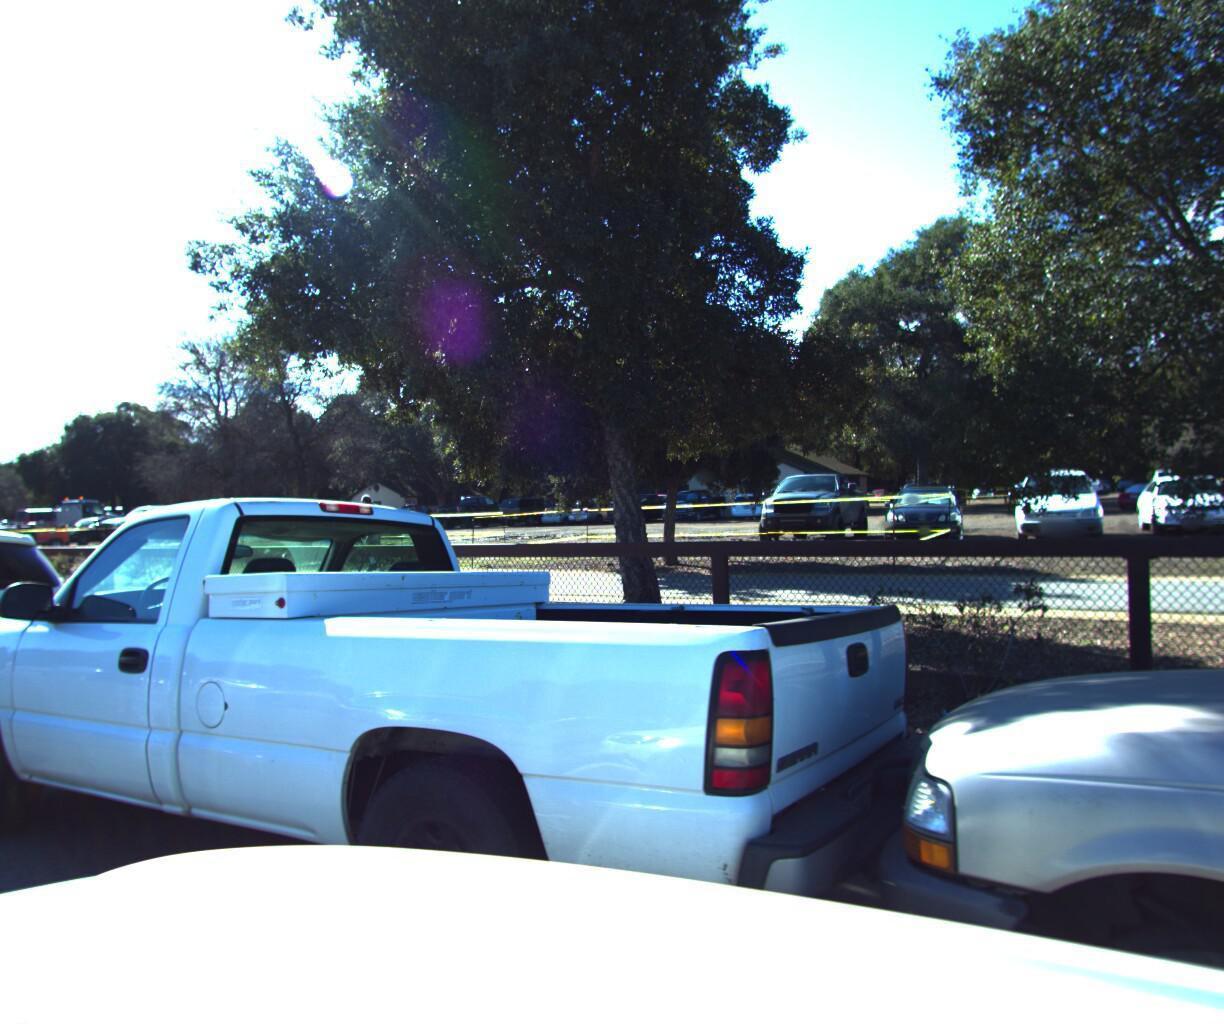bicycle: (326, 487, 420, 576)
car: (0, 476, 958, 1024), (0, 510, 148, 814)
